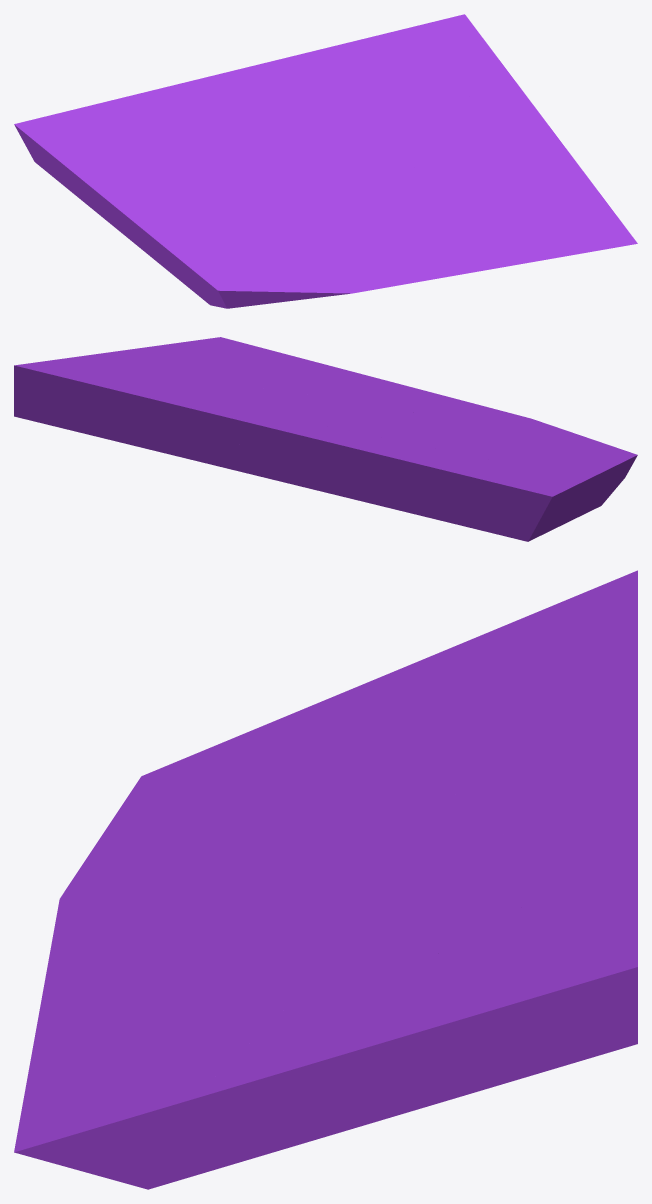
Rendered from Window_135_2_chunks.fbx.
The picture shows the model from 3 angles, top to bottom: view 1: azimuth 30°, elevation 25°; view 2: azimuth 150°, elevation 25°; view 3: azimuth 270°, elevation 25°; orthographic projection. The views are drawn at different scales.
Parts seen in each view (by area): view 1: Window_135_2_0, Window_135_2_2, Window_135_2_15, Window_135_2_23, Window_135_2_5, Window_135_2_26, Window_135_2_18, Window_135_2_3, Window_135_2_8, Window_135_2_9, Window_135_2_20, Window_135_2_7 (+12 smaller); view 2: Window_135_2_23, Window_135_2_26, Window_135_2_29, Window_135_2_28, Window_135_2_0, Window_135_2_2, Window_135_2_15, Window_135_2_5, Window_135_2_18, Window_135_2_3, Window_135_2_8, Window_135_2_9 (+11 smaller); view 3: Window_135_2_13, Window_135_2_18, Window_135_2_0, Window_135_2_2, Window_135_2_15, Window_135_2_5, Window_135_2_23, Window_135_2_26, Window_135_2_3, Window_135_2_8, Window_135_2_7, Window_135_2_9 (+12 smaller).
Boxes of the visible parts, x1,y1,x2,y2 form: Window_135_2_0: (77, 175, 263, 308); Window_135_2_2: (244, 226, 421, 305); Window_135_2_15: (426, 188, 593, 280); Window_135_2_23: (14, 91, 167, 213); Window_135_2_5: (369, 131, 476, 281); Window_135_2_26: (150, 60, 290, 135); Window_135_2_18: (493, 162, 637, 251); Window_135_2_3: (150, 179, 343, 238); Window_135_2_8: (301, 139, 417, 224); Window_135_2_9: (341, 88, 449, 162); Window_135_2_20: (130, 128, 278, 183); Window_135_2_7: (419, 14, 498, 120); Window_135_2_23: (375, 454, 578, 541); Window_135_2_26: (237, 420, 420, 504); Window_135_2_29: (14, 370, 172, 450); Window_135_2_28: (146, 395, 296, 470); Window_135_2_0: (522, 438, 637, 527); Window_135_2_2: (419, 399, 615, 447); Window_135_2_15: (255, 349, 450, 397); Window_135_2_5: (211, 374, 455, 408); Window_135_2_18: (163, 337, 268, 371); Window_135_2_3: (409, 414, 523, 464); Window_135_2_8: (280, 390, 413, 423); Window_135_2_9: (164, 378, 304, 408); Window_135_2_13: (190, 992, 539, 1152); Window_135_2_18: (14, 1013, 278, 1189); Window_135_2_0: (125, 634, 483, 811); Window_135_2_2: (48, 800, 233, 959); Window_135_2_15: (21, 964, 232, 1113); Window_135_2_5: (48, 905, 380, 995); Window_135_2_23: (483, 570, 637, 709); Window_135_2_26: (494, 690, 637, 819); Window_135_2_3: (228, 701, 435, 880); Window_135_2_8: (207, 838, 419, 941); Window_135_2_7: (400, 934, 637, 1002); Window_135_2_9: (323, 869, 506, 966).
Bounding box in the file's own units: 1106 × 290 × 735.
